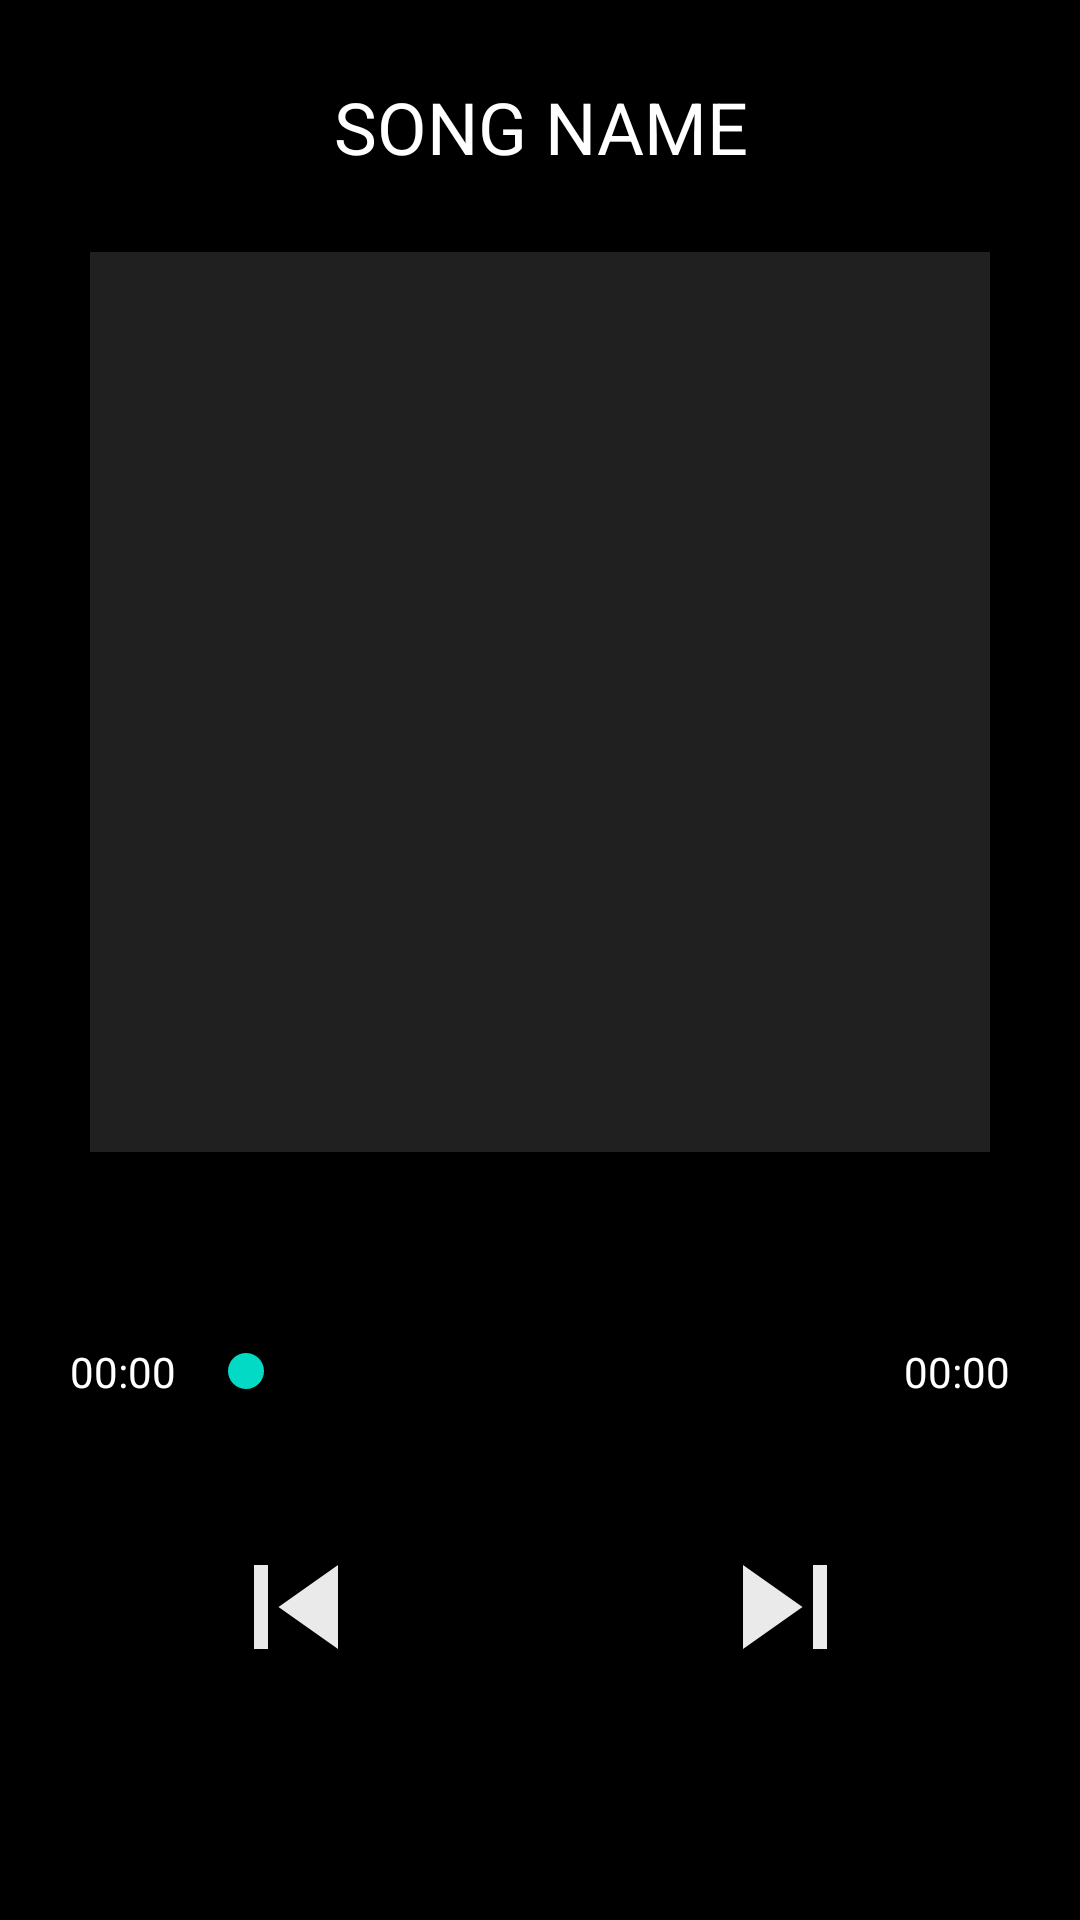

Named icons in this screenshot (1080*1920) and their bounding boxes, (x1=x1, y1=y1, x2=x2, y2=y2):
skip: (x1=743, y1=1565, x2=827, y2=1649)
skip previous: (x1=254, y1=1565, x2=338, y2=1649)
